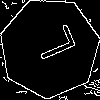L: (24, 23, 77, 66)
